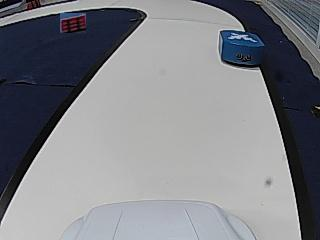prop: (219, 29, 263, 66)
